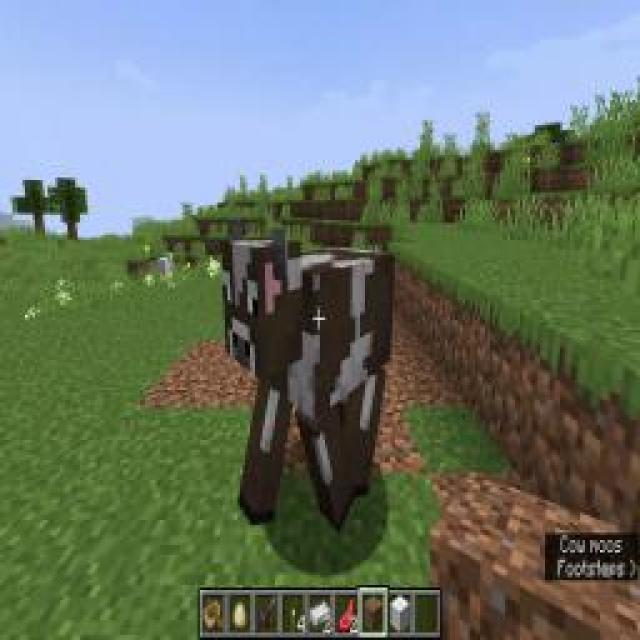Cow: (217, 215, 395, 540), (216, 218, 386, 542)
